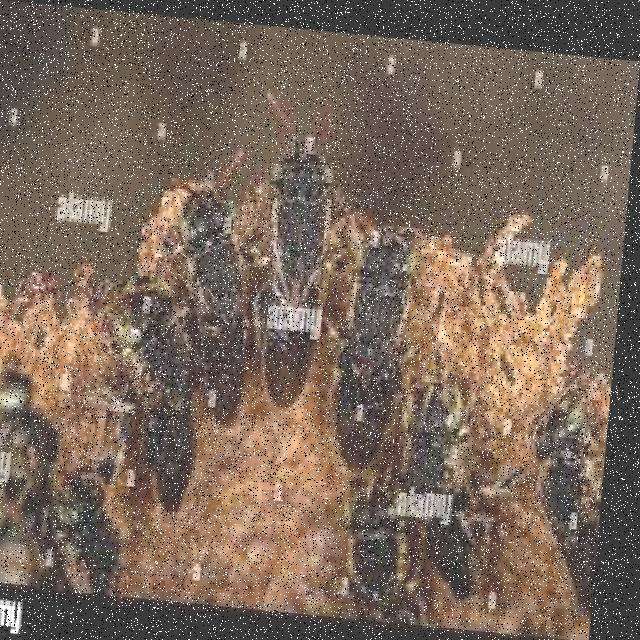Meliponula: (256, 96, 352, 419), (107, 257, 223, 522), (0, 362, 118, 608), (398, 339, 508, 600), (171, 169, 274, 425), (519, 357, 618, 620), (348, 206, 416, 482), (47, 443, 150, 594), (340, 450, 435, 612)
